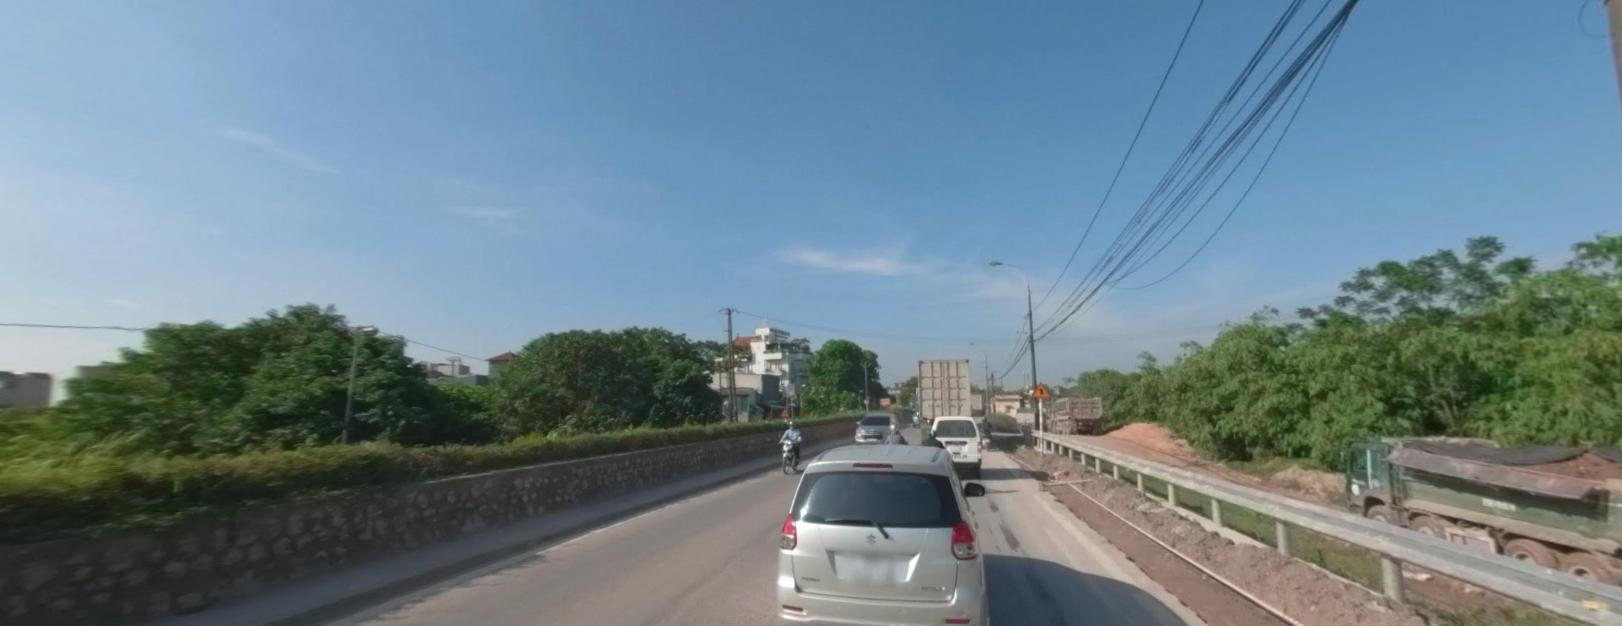Nguy hiem: (1031, 381, 1049, 396)
